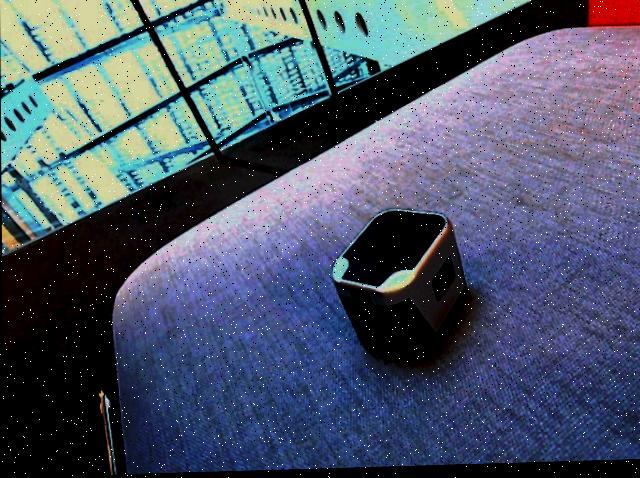adapter: (330, 208, 467, 363)
